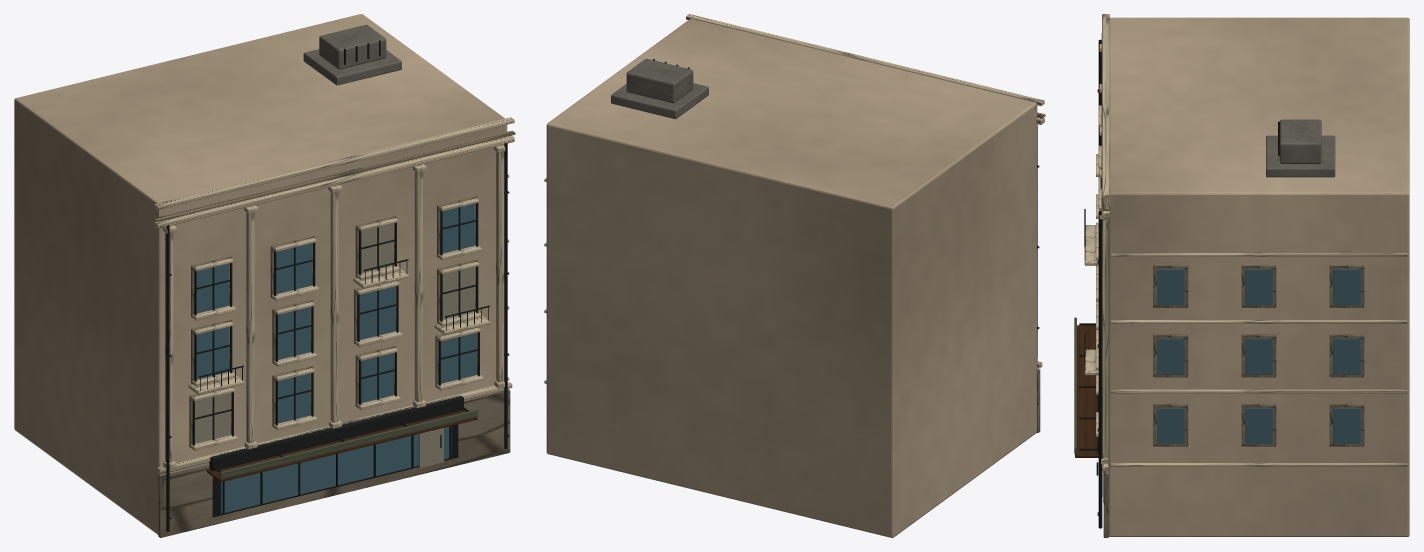
File: district01-commercial-building.glb
The picture shows the model from 3 angles, left to right: view 1: azimuth 30°, elevation 25°; view 2: azimuth 150°, elevation 25°; view 3: azimuth 270°, elevation 25°; orthographic projection. The views are drawn at different scales.
Parts seen in each view (by area): view 1: Merged geometry - CENTS · Warm aged lime render, Merged geometry - CENTS · Pale limestone trim, Merged geometry - Smoky reflective glazing, Merged geometry - CENTS · Weathered sandstone, Merged geometry - CENTS · Dark bronze anodized metal, Merged geometry - Interior warm glass, Shop fascia, Merged geometry - CENTS · Roof concrete, Awning valance, Timber canopy soffit; view 2: Merged geometry - CENTS · Warm aged lime render, Merged geometry - CENTS · Roof concrete, Merged geometry - CENTS · Pale limestone trim; view 3: Merged geometry - CENTS · Warm aged lime render, Merged geometry - CENTS · Pale limestone trim, Merged geometry - Smoky reflective glazing, Merged geometry - CENTS · Weathered sandstone, Merged geometry - CENTS · Roof concrete, Merged geometry - CENTS · Dark bronze anodized metal, Timber canopy soffit, Awning valance.
Part boxes in pixels (bbox=[...]): Merged geometry - CENTS · Warm aged lime render: bbox=[14, 14, 507, 534]; Merged geometry - CENTS · Pale limestone trim: bbox=[154, 117, 514, 473]; Merged geometry - Smoky reflective glazing: bbox=[196, 203, 476, 513]; Merged geometry - CENTS · Weathered sandstone: bbox=[153, 130, 515, 537]; Merged geometry - CENTS · Dark bronze anodized metal: bbox=[166, 40, 509, 531]; Merged geometry - Interior warm glass: bbox=[195, 223, 475, 468]; Shop fascia: bbox=[209, 395, 463, 471]; Merged geometry - CENTS · Roof concrete: bbox=[303, 24, 401, 85]; Awning valance: bbox=[219, 409, 478, 478]; Timber canopy soffit: bbox=[206, 410, 477, 482]; Merged geometry - CENTS · Warm aged lime render: bbox=[546, 18, 1037, 537]; Merged geometry - CENTS · Roof concrete: bbox=[611, 58, 708, 119]; Merged geometry - CENTS · Pale limestone trim: bbox=[544, 14, 1044, 383]; Merged geometry - CENTS · Warm aged lime render: bbox=[1108, 17, 1409, 536]; Merged geometry - CENTS · Pale limestone trim: bbox=[1084, 14, 1407, 470]; Merged geometry - Smoky reflective glazing: bbox=[1102, 269, 1360, 496]; Merged geometry - CENTS · Weathered sandstone: bbox=[1102, 198, 1364, 537]; Merged geometry - CENTS · Roof concrete: bbox=[1266, 119, 1335, 177]; Merged geometry - CENTS · Dark bronze anodized metal: bbox=[1079, 39, 1279, 528]; Timber canopy soffit: bbox=[1075, 325, 1098, 457]; Awning valance: bbox=[1074, 317, 1076, 454].
Bounding box in the file's own units: 18.55 × 17.85 × 14.46.
10 materials, 8 textured.
